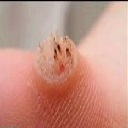Wart: (37, 32, 84, 87)
